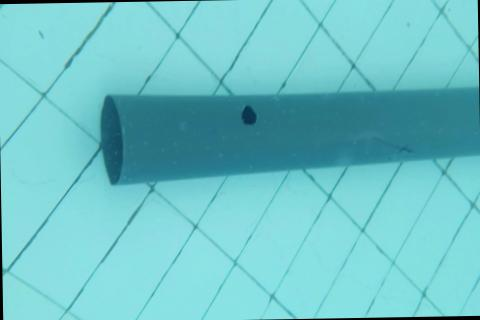kebocoran: (239, 103, 257, 127)
keretakan: (379, 136, 414, 157)
